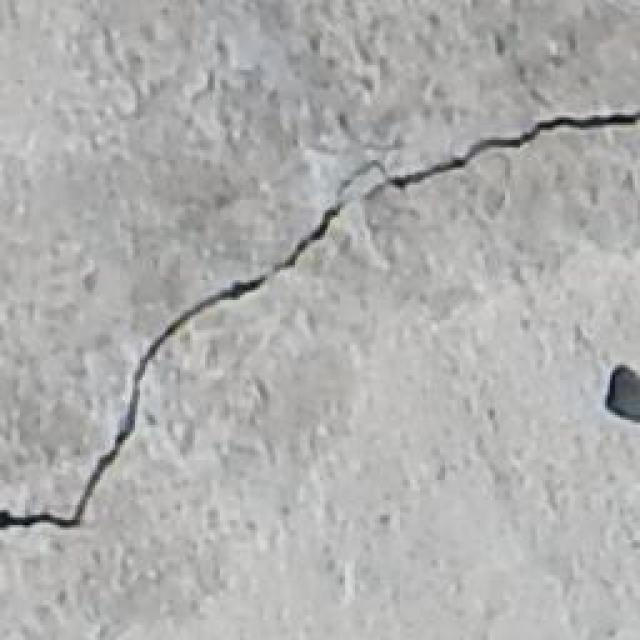concrete-crack: (0, 110, 638, 532)
